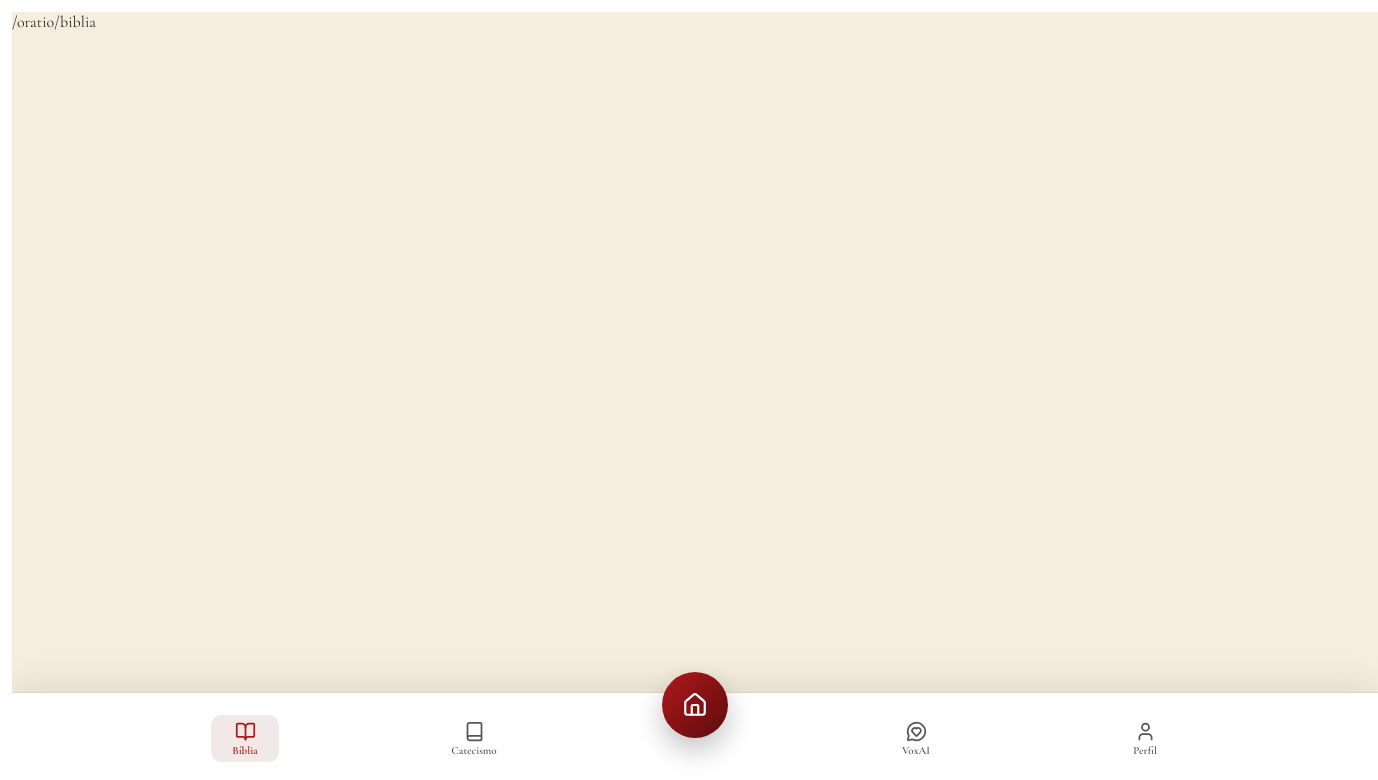
Test case: BottomNavbar › the center button always goes to Home
Click the button named "Abrir início": [695, 704] box x1=662 y1=672 x2=728 y2=738
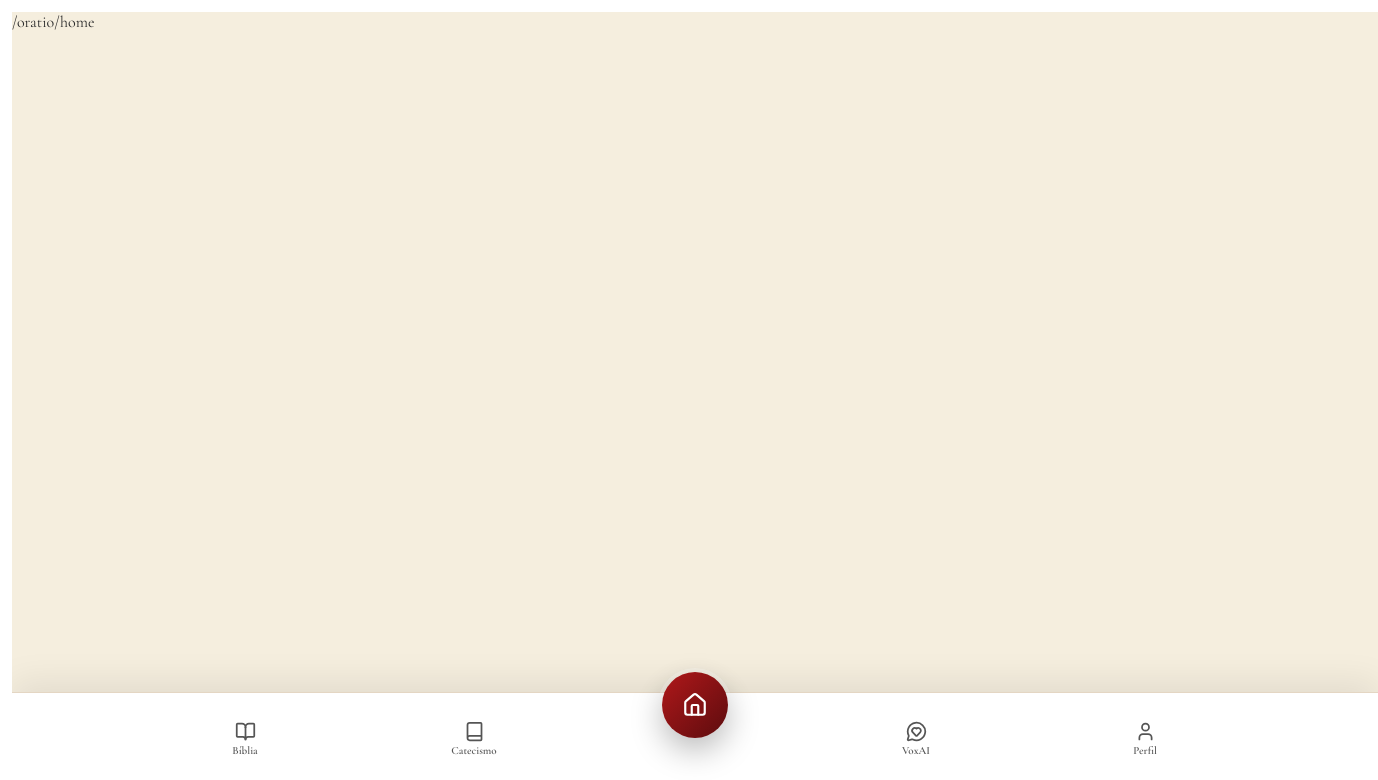
Expected: the text with test id "location" reads "/oratio/home", x1=12 y1=12 x2=94 y2=32
